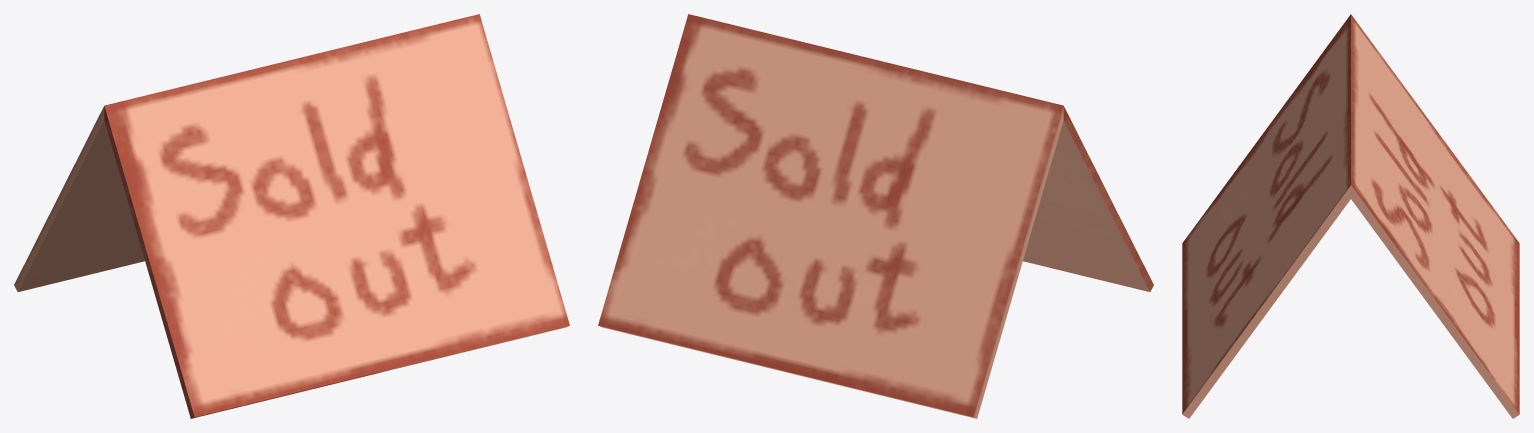
Rendered from sold_out.glb.
3 views of the same model, side by side, from view 1: azimuth 30°, elevation 25°; view 2: azimuth 150°, elevation 25°; view 3: azimuth 270°, elevation 25° (orthographic). The views are drawn at different scales.
Visible parts, largest first — view 1: Cube.002; view 2: Cube.002; view 3: Cube.002.
Part boxes in pixels (left/top/right/bottom): Cube.002: left=14, top=14, right=569, bottom=418; Cube.002: left=598, top=14, right=1153, bottom=418; Cube.002: left=1182, top=14, right=1519, bottom=418.
Size of the model in its own units: 0.48 by 0.3055 by 0.4.
1 material, 1 textured.
